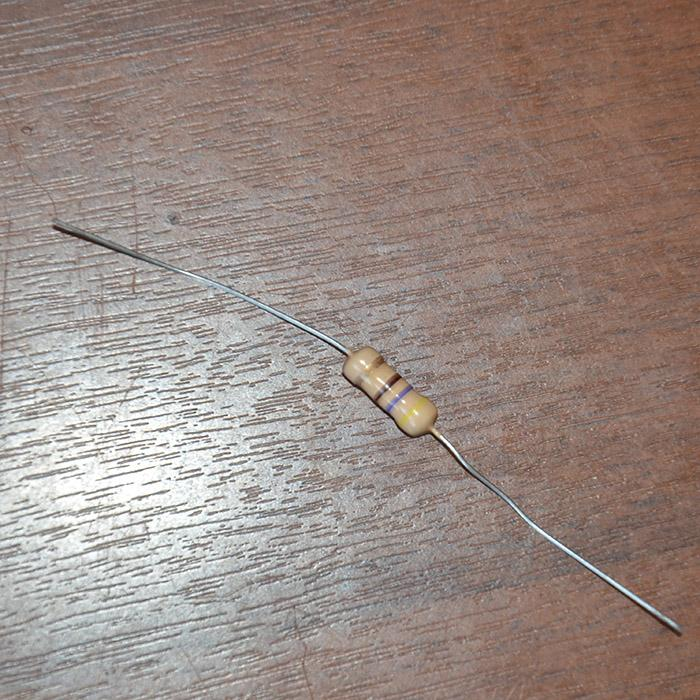resistor: (341, 343, 438, 437)
